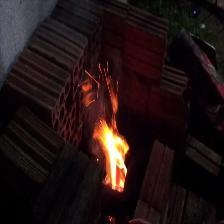fire: (79, 66, 136, 198)
